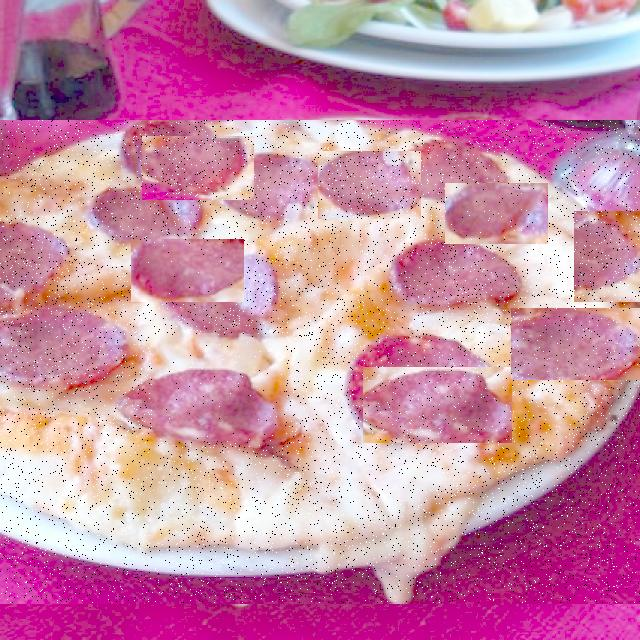Pepperoni: (152, 335, 286, 441), (363, 368, 512, 443), (511, 309, 640, 380), (364, 250, 474, 327), (142, 137, 254, 200), (131, 240, 244, 302), (318, 152, 421, 219), (445, 184, 548, 244), (574, 212, 640, 302)
Pizza: (0, 120, 640, 603)
